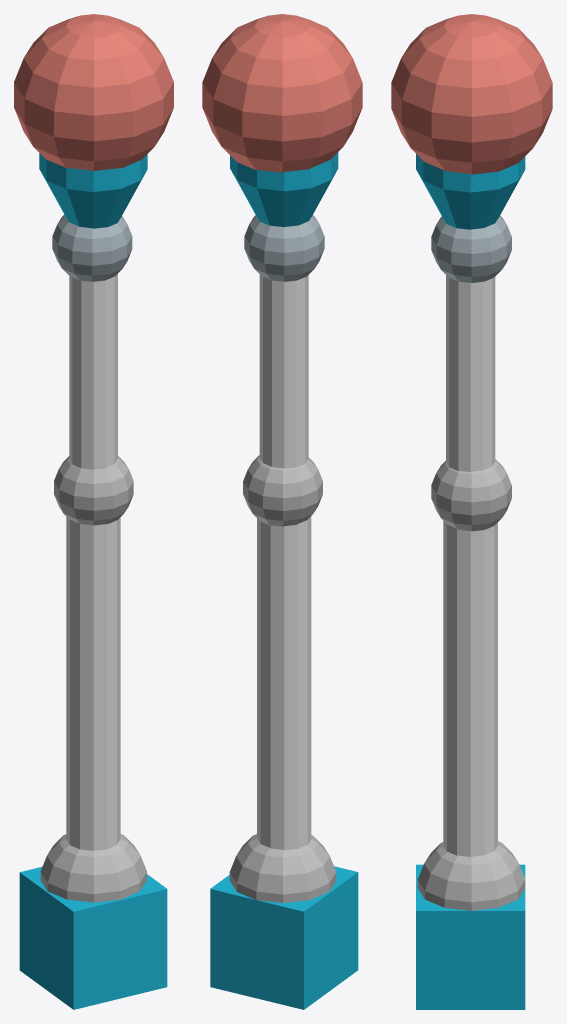
The model's file is arm-post-blender.fbx.
3 views of the same model, side by side, from view 1: azimuth 30°, elevation 25°; view 2: azimuth 150°, elevation 25°; view 3: azimuth 270°, elevation 25° (orthographic).
Parts seen in each view (by area): view 1: mesh_367281203_mesh.017, mesh_1620671939_mesh.021, mesh_188918235_mesh.022, mesh_708325954_mesh.016, mesh_1965541212_mesh.024, mesh_887282978_mesh.019, mesh_2009855847_mesh.018, mesh_317251841_mesh.015; view 2: mesh_367281203_mesh.017, mesh_1620671939_mesh.021, mesh_188918235_mesh.022, mesh_708325954_mesh.016, mesh_1965541212_mesh.024, mesh_887282978_mesh.019, mesh_2009855847_mesh.018, mesh_317251841_mesh.015; view 3: mesh_367281203_mesh.017, mesh_1620671939_mesh.021, mesh_188918235_mesh.022, mesh_708325954_mesh.016, mesh_1965541212_mesh.024, mesh_887282978_mesh.019, mesh_2009855847_mesh.018, mesh_317251841_mesh.015.
Part boxes in pixels (x1,y1,x2,y2): mesh_367281203_mesh.017: [14, 14, 173, 170]; mesh_1620671939_mesh.021: [66, 517, 120, 850]; mesh_188918235_mesh.022: [19, 867, 167, 1009]; mesh_708325954_mesh.016: [69, 274, 117, 469]; mesh_1965541212_mesh.024: [40, 834, 146, 902]; mesh_887282978_mesh.019: [39, 153, 147, 228]; mesh_2009855847_mesh.018: [54, 456, 133, 525]; mesh_317251841_mesh.015: [52, 214, 132, 281]; mesh_367281203_mesh.017: [202, 14, 362, 172]; mesh_1620671939_mesh.021: [257, 516, 311, 850]; mesh_188918235_mesh.022: [210, 866, 358, 1009]; mesh_708325954_mesh.016: [259, 274, 308, 468]; mesh_1965541212_mesh.024: [229, 834, 336, 902]; mesh_887282978_mesh.019: [230, 152, 338, 226]; mesh_2009855847_mesh.018: [243, 455, 322, 526]; mesh_317251841_mesh.015: [244, 215, 324, 281]; mesh_367281203_mesh.017: [391, 14, 552, 174]; mesh_1620671939_mesh.021: [443, 521, 497, 856]; mesh_188918235_mesh.022: [416, 864, 525, 1009]; mesh_708325954_mesh.016: [446, 275, 495, 471]; mesh_1965541212_mesh.024: [417, 841, 525, 910]; mesh_887282978_mesh.019: [416, 154, 525, 229]; mesh_2009855847_mesh.018: [431, 459, 511, 531]; mesh_317251841_mesh.015: [431, 215, 511, 282].
Bounding box in the file's own units: 5.91 × 39 × 5.91.
